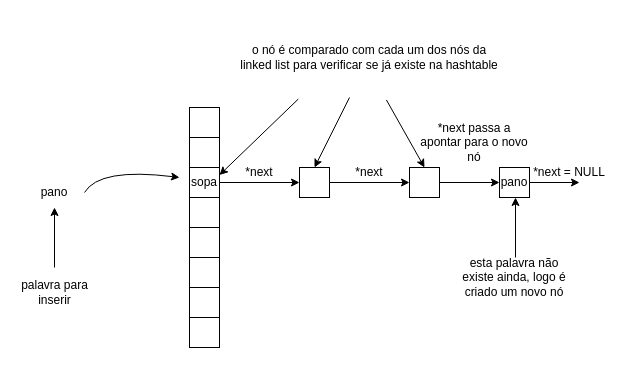
This 627x365 diagram has some shape labels left out. The shapes that lost their labels are listed below. From the top down, each one's centre as x and y in pixels, then its label:
At (x=314, y=182): "bola".
At (x=424, y=182): "tiro".
